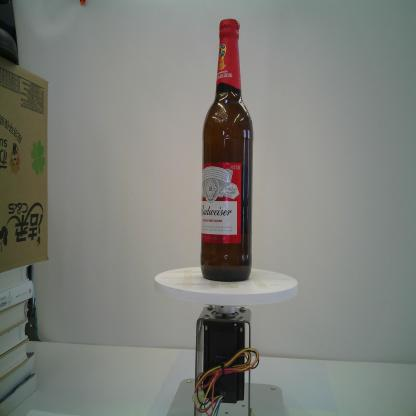Alcohol: (198, 15, 254, 284)
